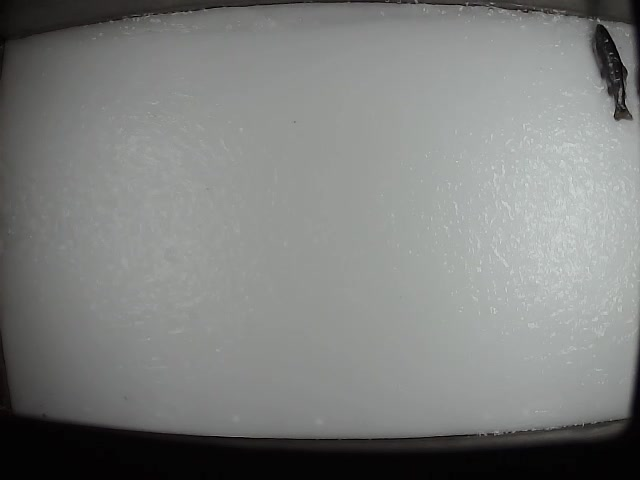Fish: (594, 25, 633, 121)
